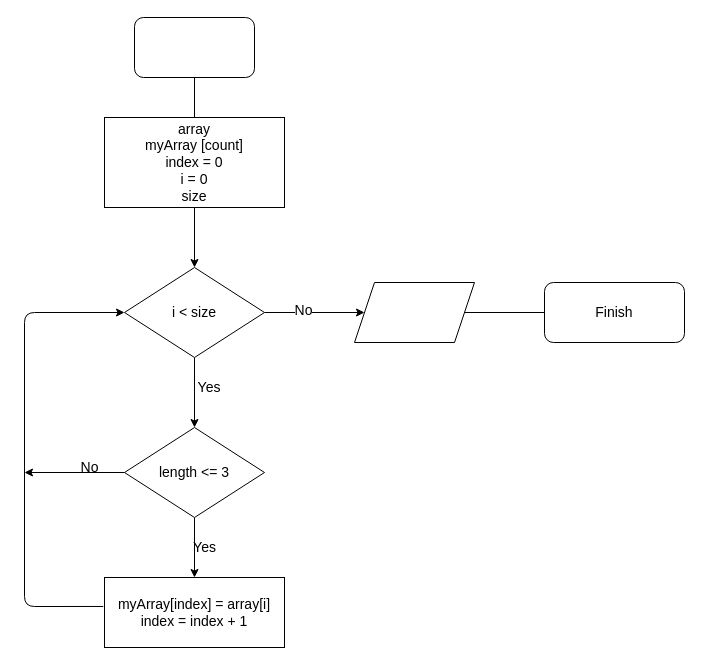
Some shapes in this 702 by 665 pixel diagram are drawn without their labels. Here are the shapes that lost their labels. From the top down, the centre of each, then its label:
pixel 194 47: Start
pixel 414 312: myArray
